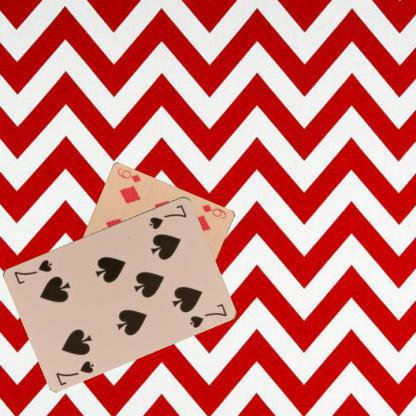6d: (199, 202, 227, 220)
7s: (53, 358, 95, 387), (147, 202, 188, 231)
